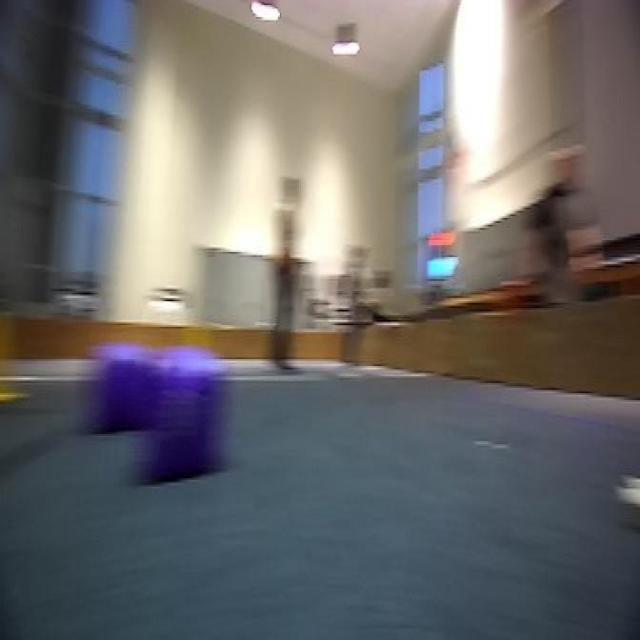frc_cube: (148, 371, 226, 499), (94, 347, 156, 436)
